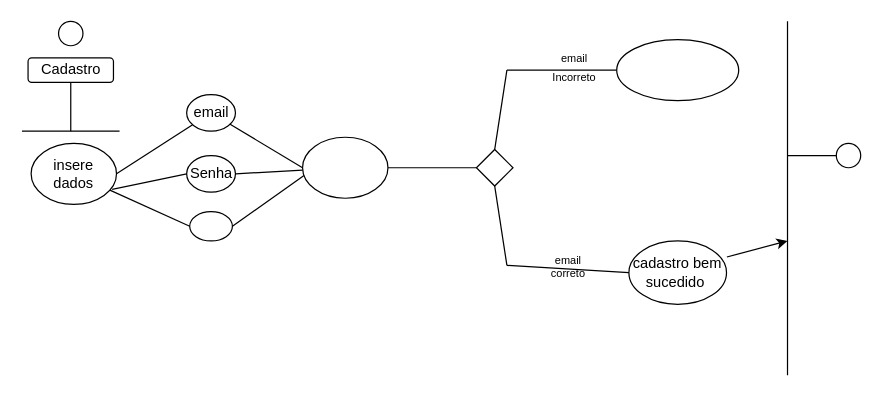
This 882x398 diagram has some shape labels left out. The centre of each missing label's shape, as x and y in pixels:
"continua na tela de cadastro" belongs at point (677, 69).
"CPF" belongs at point (210, 225).
"Verificação de dados" belongs at point (344, 167).
